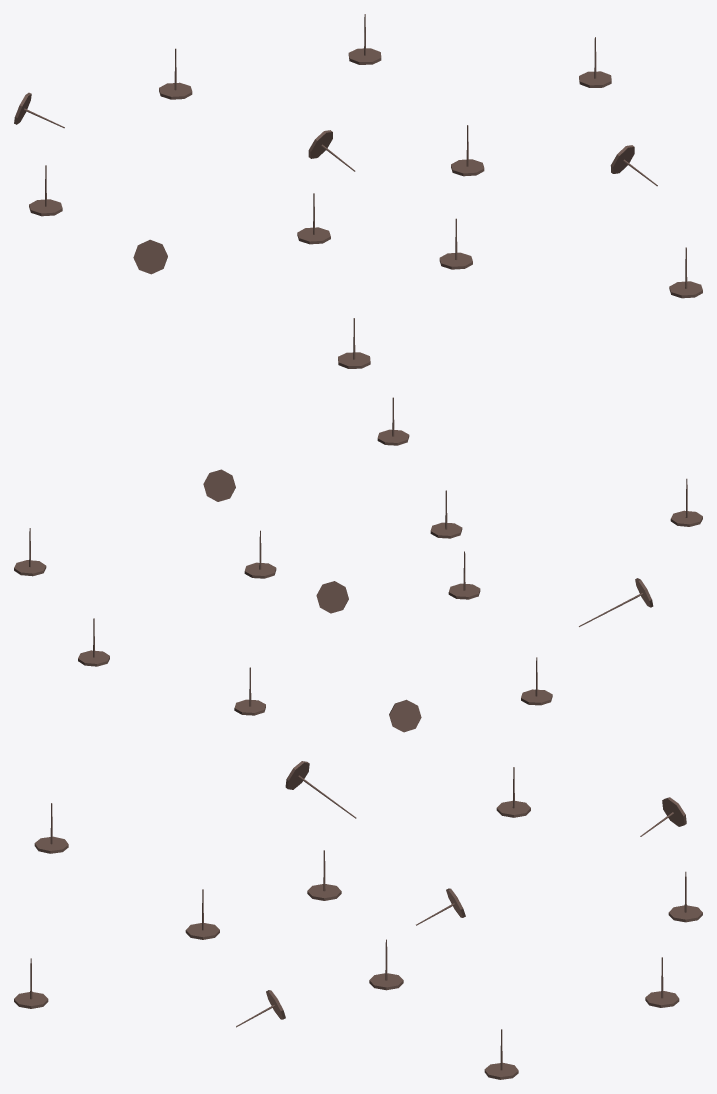
The model's file is nails_dropped.fbx.
The picture shows the model from 3 angles, top to bottom: view 1: azimuth 30°, elevation 25°; view 2: azimuth 150°, elevation 25°; view 3: azimuth 270°, elevation 25°; orthographic projection. The views are drawn at different scales.
Visible parts, largest first — view 1: Cylinder.011, Cylinder.013, Cylinder.007, Cylinder.004, Cylinder.001, Cylinder.008, Cylinder, Cylinder.002; view 2: Cylinder.012, Cylinder.009, Cylinder.010; view 3: Cylinder.011, Cylinder.001, Cylinder.005, Cylinder.013, Cylinder.006, Cylinder.008, Cylinder.009, Cylinder, Cylinder.004, Cylinder.002, Cylinder.007.
Part boxes in pixels (bbox=[...]): Cylinder.011: bbox=[133, 239, 167, 274]; Cylinder.013: bbox=[579, 37, 611, 87]; Cylinder.007: bbox=[159, 48, 192, 99]; Cylinder.004: bbox=[439, 218, 472, 269]; Cylinder.001: bbox=[451, 125, 484, 176]; Cylinder.008: bbox=[338, 318, 370, 368]; Cylinder: bbox=[669, 247, 702, 298]; Cylinder.002: bbox=[29, 165, 62, 216]; Cylinder.012: bbox=[203, 469, 235, 501]; Cylinder.009: bbox=[389, 699, 421, 732]; Cylinder.010: bbox=[316, 581, 348, 613]; Cylinder.011: bbox=[285, 761, 356, 818]; Cylinder.001: bbox=[369, 939, 403, 990]; Cylinder.005: bbox=[307, 850, 341, 900]; Cylinder.013: bbox=[484, 1029, 518, 1079]; Cylinder.006: bbox=[645, 957, 679, 1007]; Cylinder.008: bbox=[34, 803, 68, 853]; Cylinder.009: bbox=[640, 797, 686, 836]; Cylinder: bbox=[14, 958, 48, 1008]; Cylinder.004: bbox=[185, 889, 219, 939]; Cylinder.002: bbox=[496, 767, 530, 817]; Cylinder.007: bbox=[668, 871, 702, 922].
Bounding box in the file's own units: 156 × 12.59 × 164.
